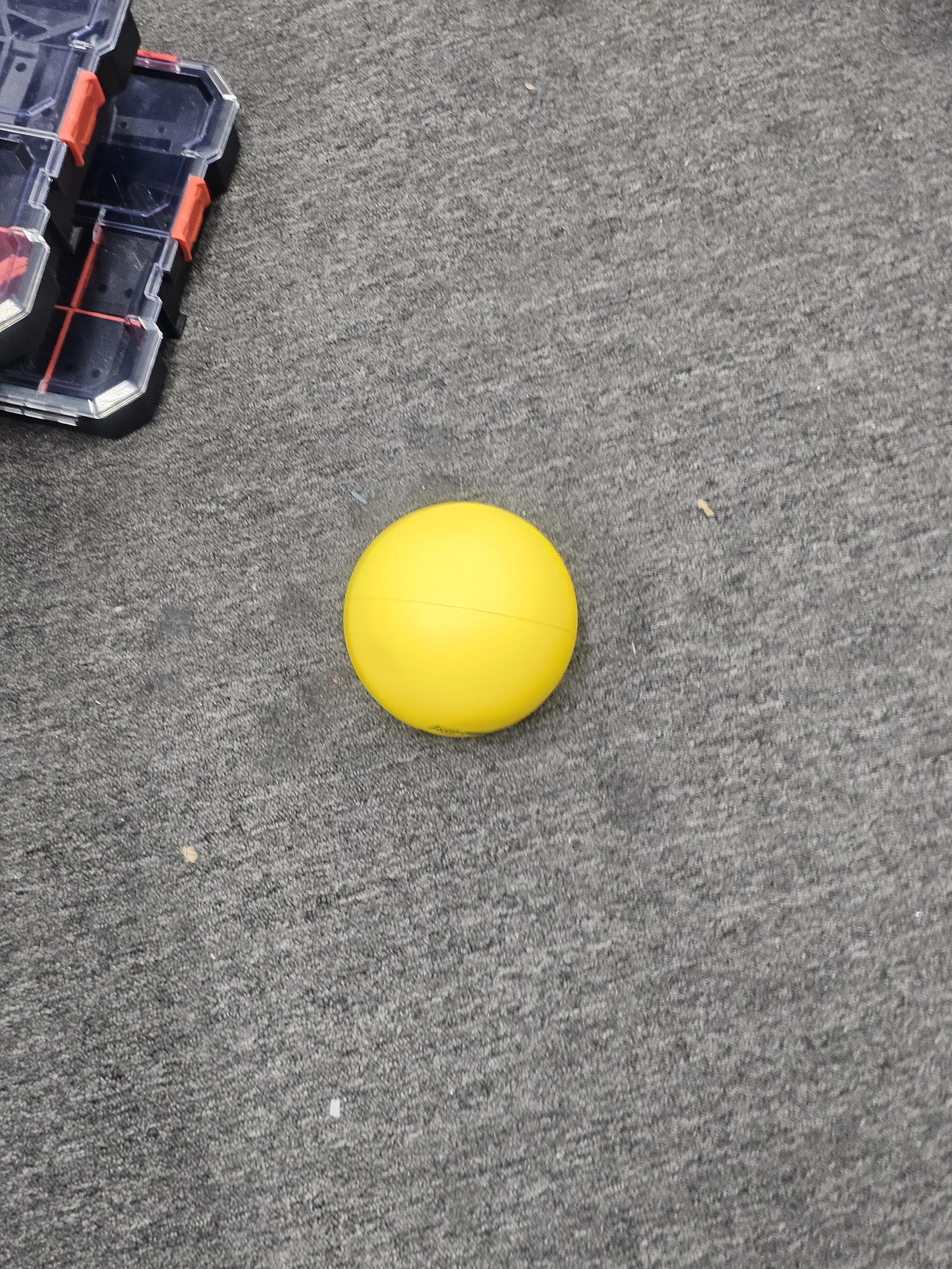fuel: (335, 494, 592, 751)
